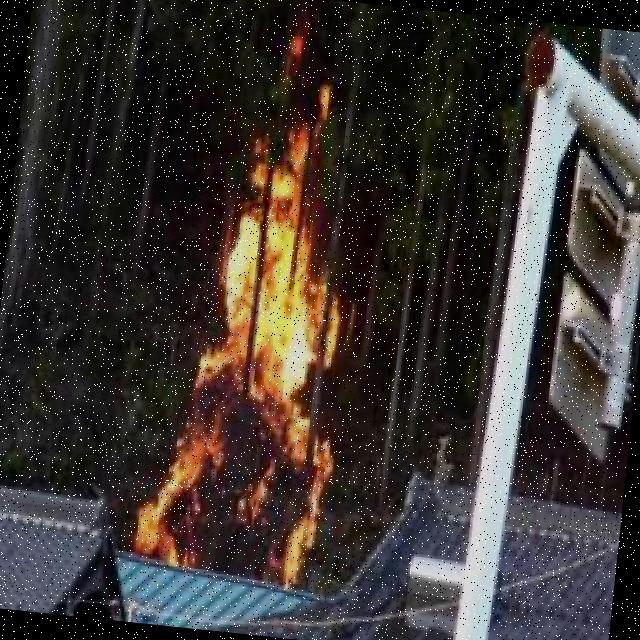Fire: (131, 111, 364, 590)
